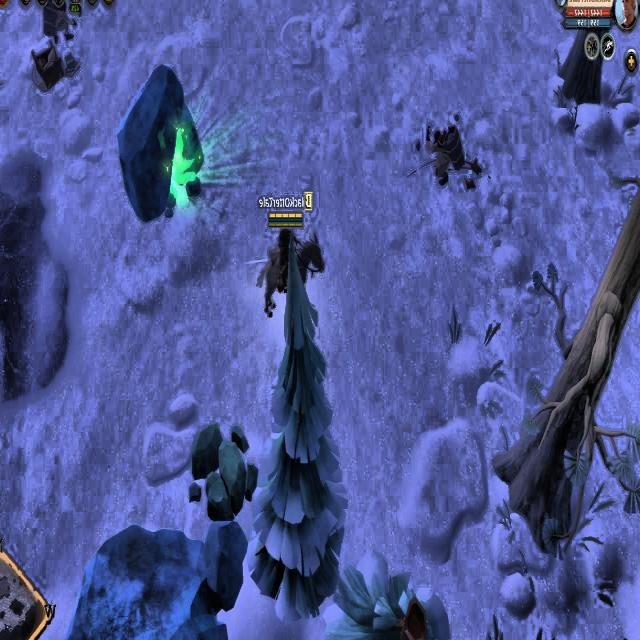sandstone: (186, 416, 258, 528)
